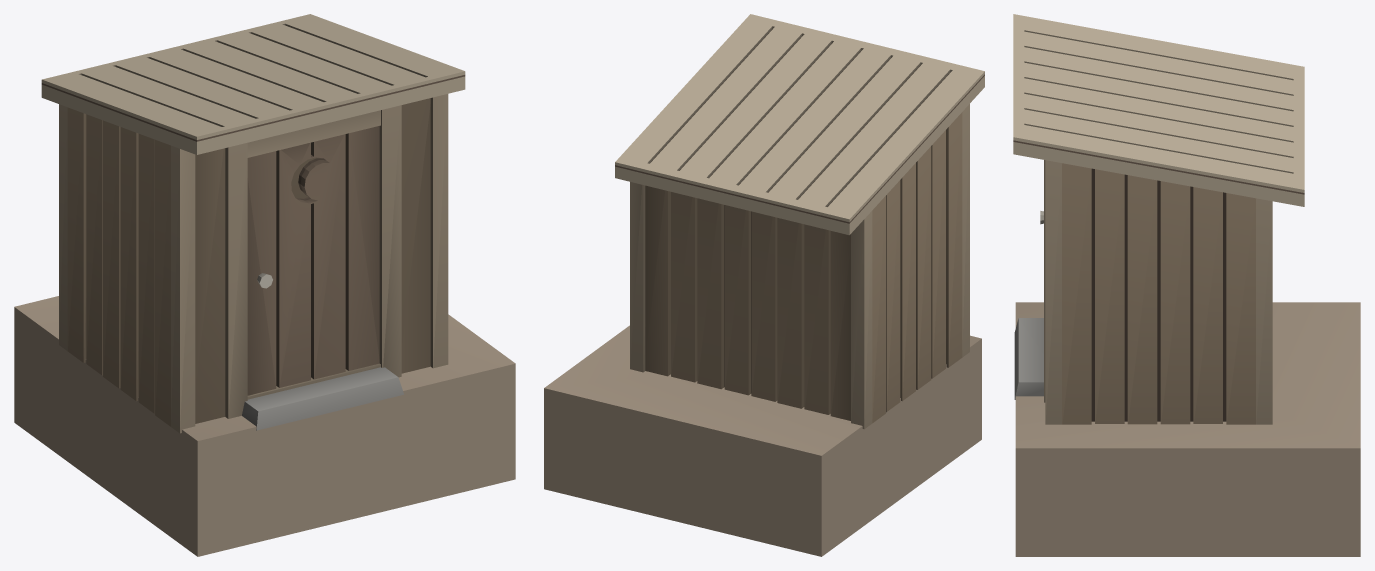
Rendered from outhouse.glb.
The picture shows the model from 3 angles, left to right: view 1: azimuth 30°, elevation 25°; view 2: azimuth 150°, elevation 25°; view 3: azimuth 270°, elevation 25°; orthographic projection. The views are drawn at different scales.
Parts seen in each view (by area): view 1: outhouse; view 2: outhouse; view 3: outhouse.
Part boxes in pixels (x1,y1,x2,y2): outhouse: (14, 14, 515, 556); outhouse: (544, 14, 984, 556); outhouse: (1013, 14, 1360, 556).
Size of the model in its own units: 2.98 by 3.75 by 2.98.
